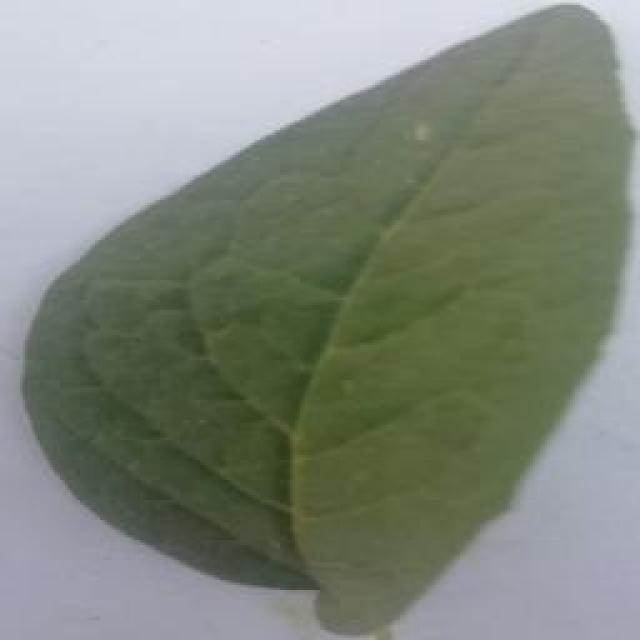Potato_Healthy: (24, 5, 623, 628)
